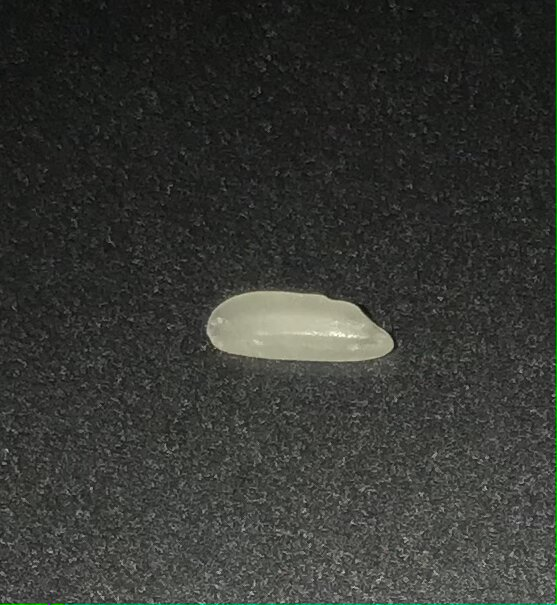Gao Long Lai: (207, 275, 402, 384)
